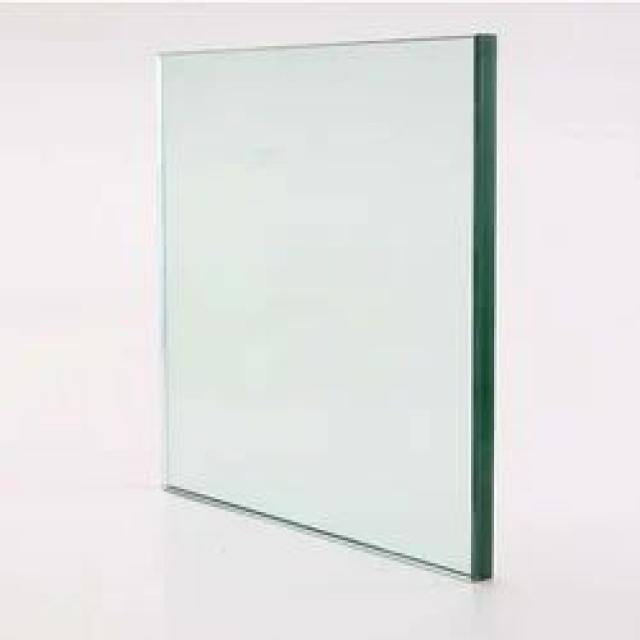glass: (112, 1, 562, 594)
